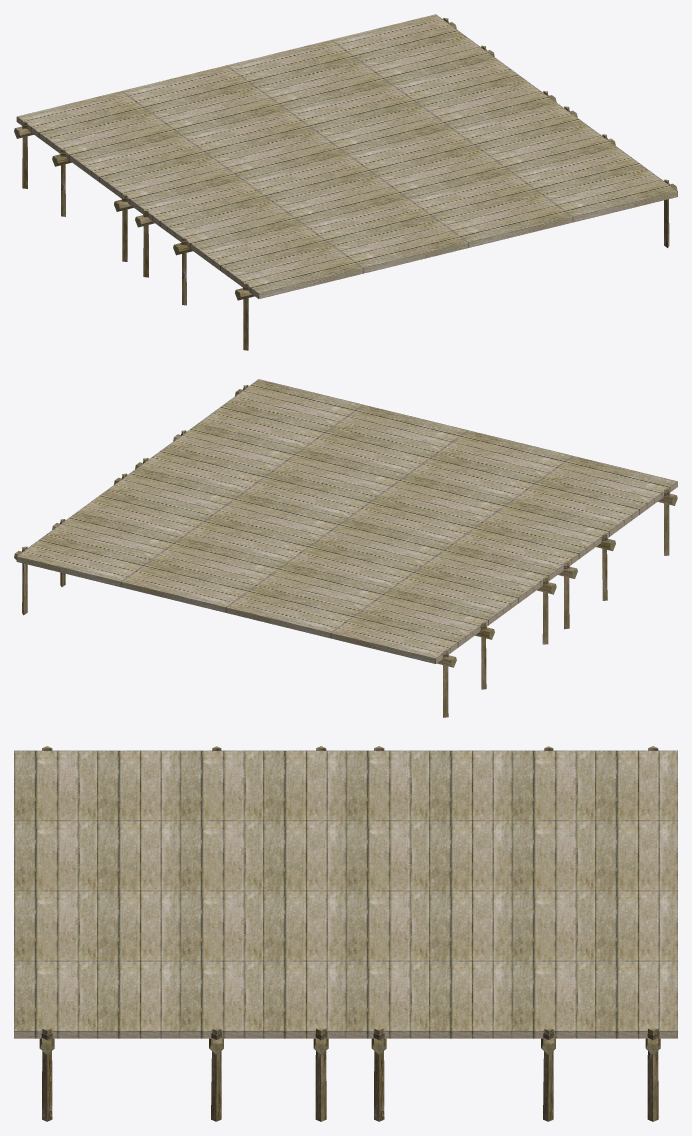
Rendered from thm_endr_lakevillage_lake_hut_pc1_l1.fbx.
The picture shows the model from 3 angles, top to bottom: view 1: azimuth 30°, elevation 25°; view 2: azimuth 150°, elevation 25°; view 3: azimuth 270°, elevation 25°; orthographic projection. The views are drawn at different scales.
Parts seen in each view (by area): view 1: mesh_node; view 2: mesh_node; view 3: mesh_node.
Boxes of the visible parts, x1,y1,x2,y2 form: mesh_node: (14,14,677,350); mesh_node: (14,379,677,717); mesh_node: (14,746,677,1121).
Bounding box in the file's own units: 16.68 × 2.41 × 16.
